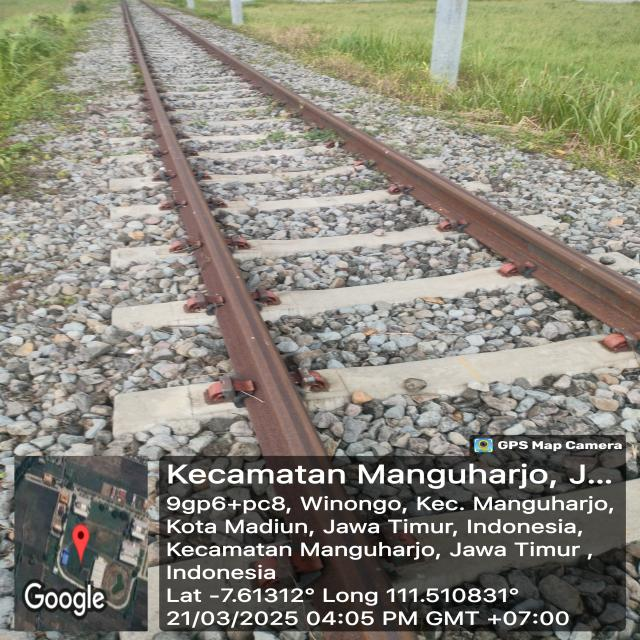rail-detection: (141, 0, 640, 334), (121, 0, 330, 470), (316, 559, 397, 610), (285, 485, 334, 530)
